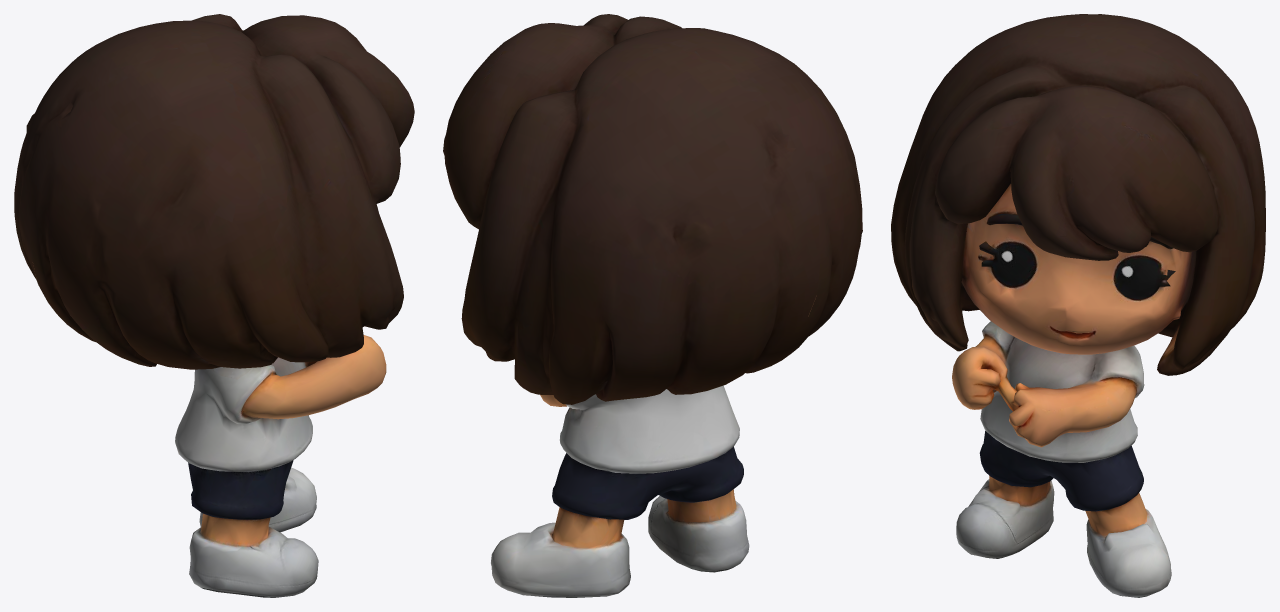
File: girl.glb
The picture shows the model from 3 angles, left to right: view 1: azimuth 30°, elevation 25°; view 2: azimuth 150°, elevation 25°; view 3: azimuth 270°, elevation 25°; orthographic projection. The views are drawn at different scales.
Visible parts, largest first — view 1: tripo_node_8064922c-7c48-413c-8c03-558ddff9dc1b; view 2: tripo_node_8064922c-7c48-413c-8c03-558ddff9dc1b; view 3: tripo_node_8064922c-7c48-413c-8c03-558ddff9dc1b.
Part boxes in pixels (<box>): tripo_node_8064922c-7c48-413c-8c03-558ddff9dc1b: <box>14,14,414,597</box>; tripo_node_8064922c-7c48-413c-8c03-558ddff9dc1b: <box>443,14,862,597</box>; tripo_node_8064922c-7c48-413c-8c03-558ddff9dc1b: <box>891,14,1265,597</box>.
Size of the model in its own units: 0.7056 by 0.9998 by 0.677.
1 material, 1 textured.
